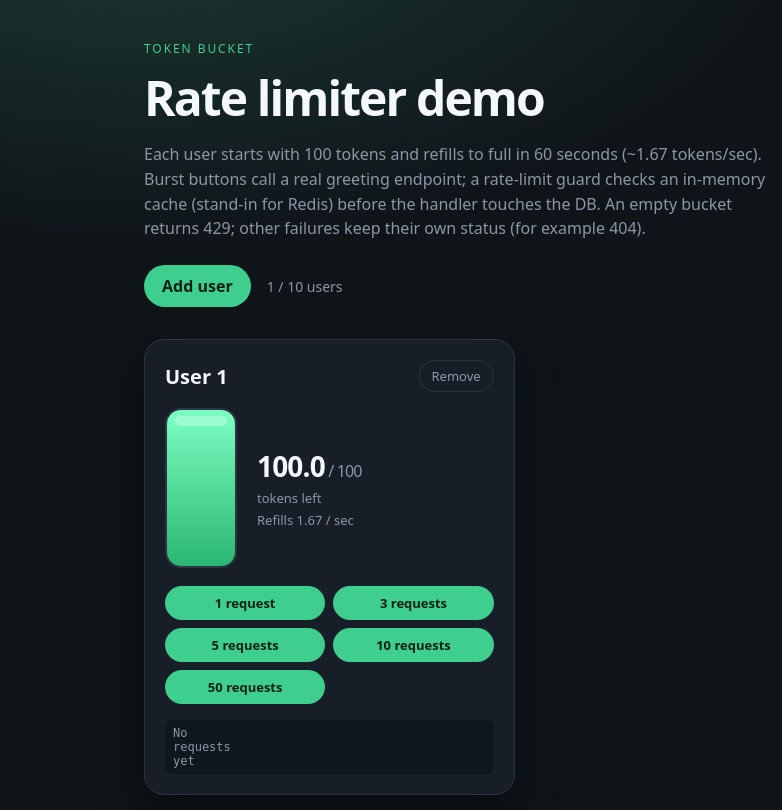
Test: App › drops the oldest logs when a new burst exceeds the 10-row cap
Expected: the heading "User 1" is shown, [165,363,228,390]
Click the button "5 requests". click: click(245, 645)
box: [165,628,325,662]
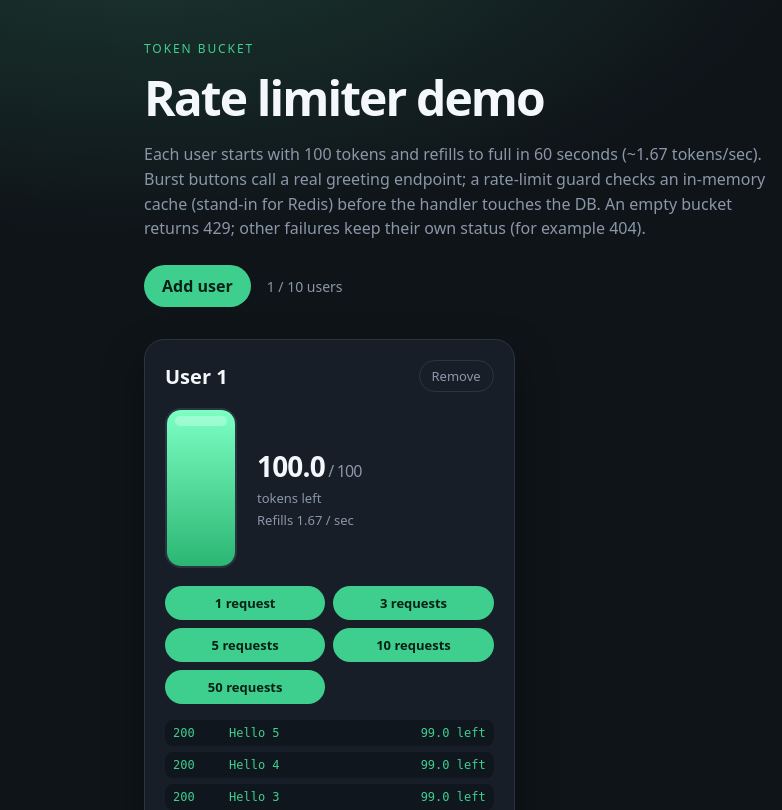
Result: the text "Hello 5" is shown at [229,726,280,740]
Click the button "10 requests". click: click(413, 645)
box: [333,628,494,662]
(page scrolled)
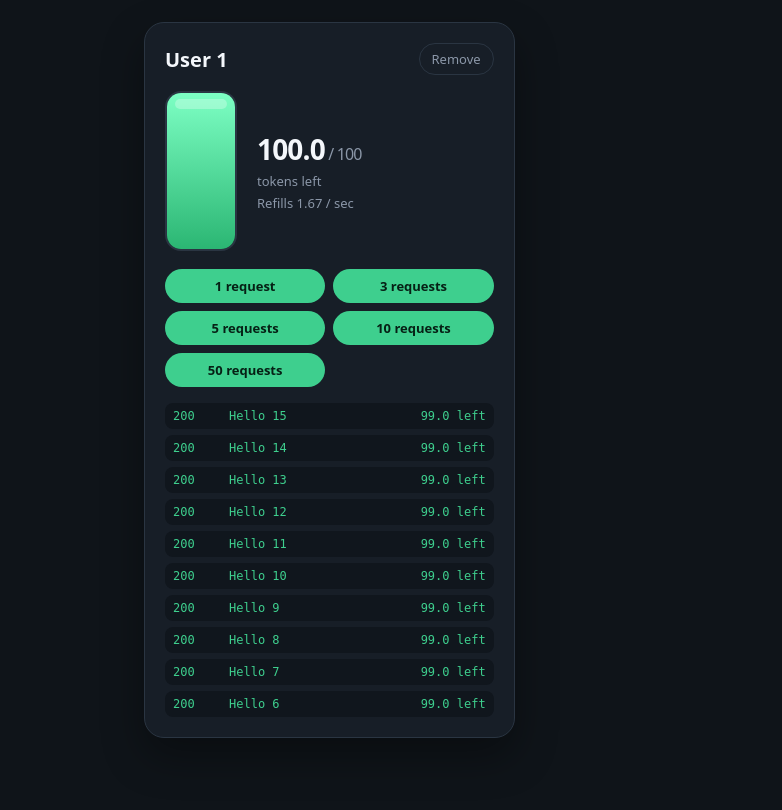
Result: the text "Hello 15" is shown at [229,409,287,423]
Result: the number of list items is 10
Result: the list item "200 Hello 15 99.0 left" is shown at [165,403,494,429]
